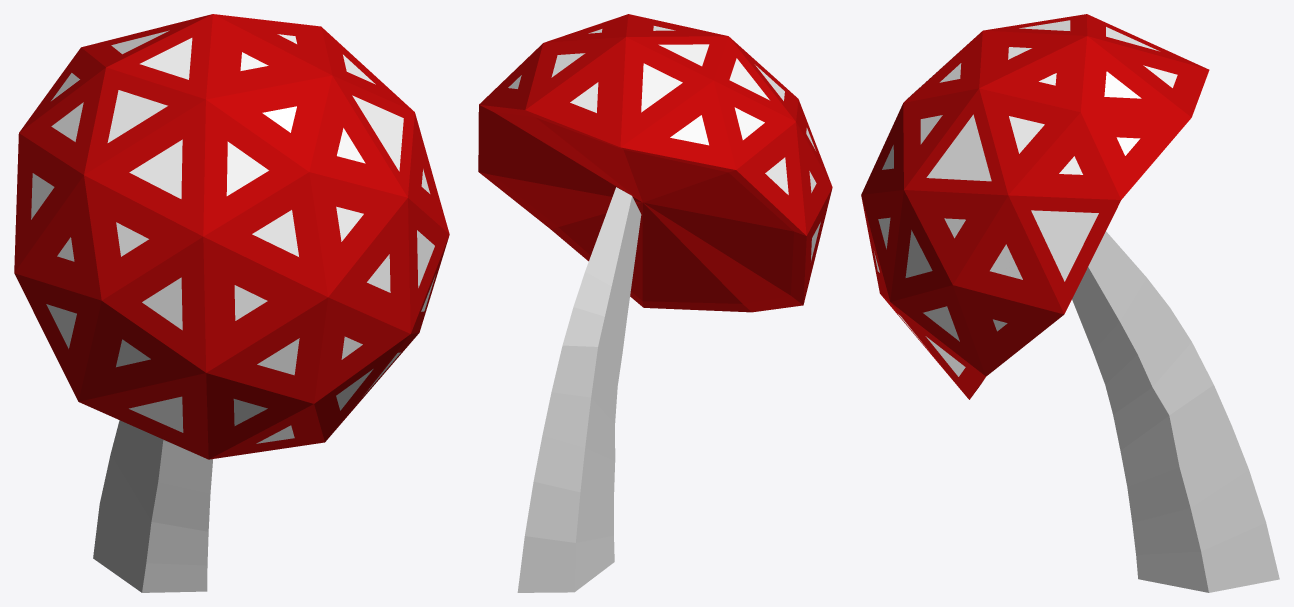
Rendered from cogumelo11.FBX.
3 views of the same model, side by side, from view 1: azimuth 30°, elevation 25°; view 2: azimuth 150°, elevation 25°; view 3: azimuth 270°, elevation 25° (orthographic). The views are drawn at different scales.
Visible parts, largest first — view 1: cogumelo11cabeca, cogumelo11; view 2: cogumelo11cabeca, cogumelo11; view 3: cogumelo11cabeca, cogumelo11.
Boxes of the visible parts, box(x1,y1,x2,y2) form: cogumelo11cabeca: box(14, 14, 449, 459); cogumelo11: box(93, 420, 212, 592); cogumelo11cabeca: box(478, 14, 832, 312); cogumelo11: box(517, 187, 641, 592); cogumelo11cabeca: box(861, 14, 1209, 399); cogumelo11: box(1072, 231, 1279, 592).
Size of the model in its own units: 61.47 by 88.14 by 62.71.
